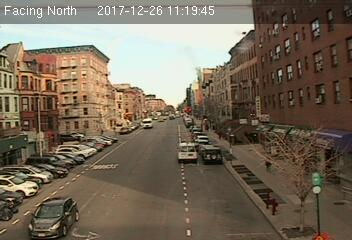car: (30, 194, 78, 237), (201, 145, 221, 163)
truck: (177, 142, 199, 163)
